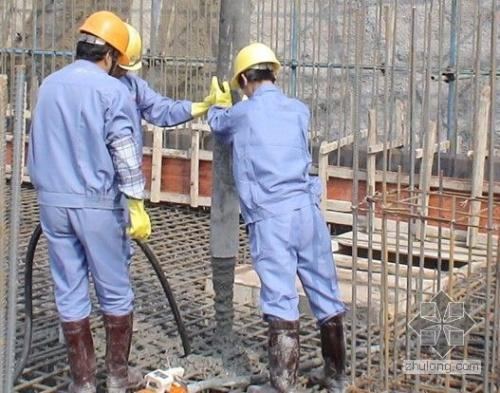helmet: (71, 9, 129, 77), (228, 39, 286, 101), (113, 24, 145, 85)
